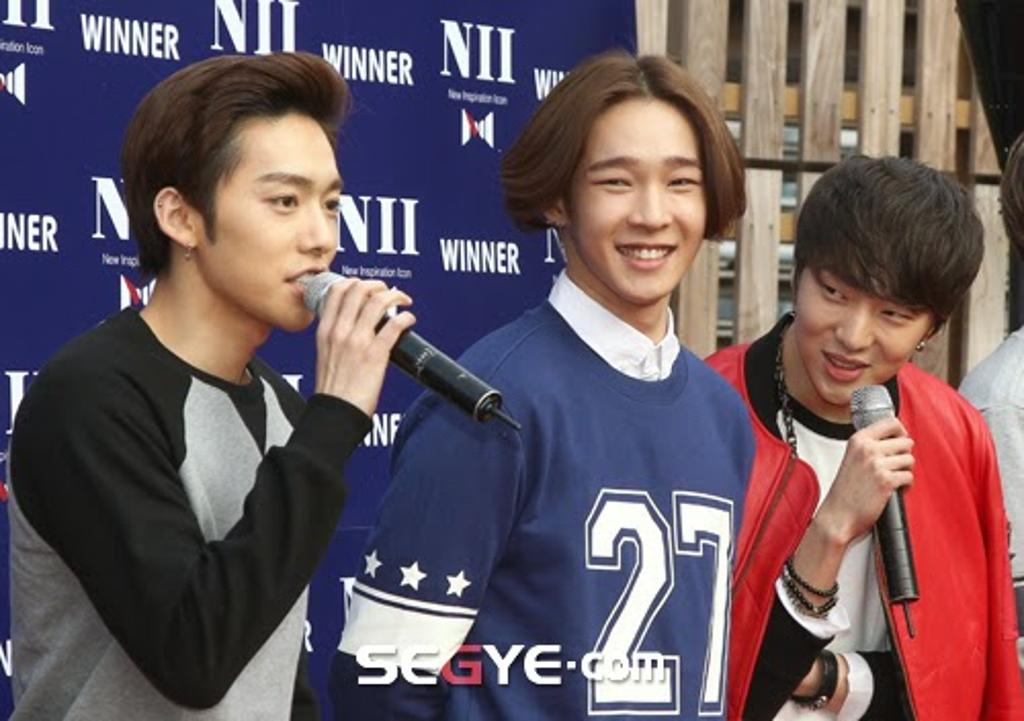face: (206, 106, 342, 332), (570, 98, 710, 304), (796, 214, 928, 404)
